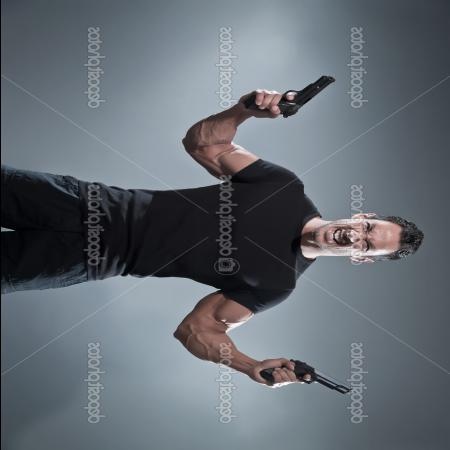Pistol: (248, 72, 350, 122), (243, 353, 351, 396)
